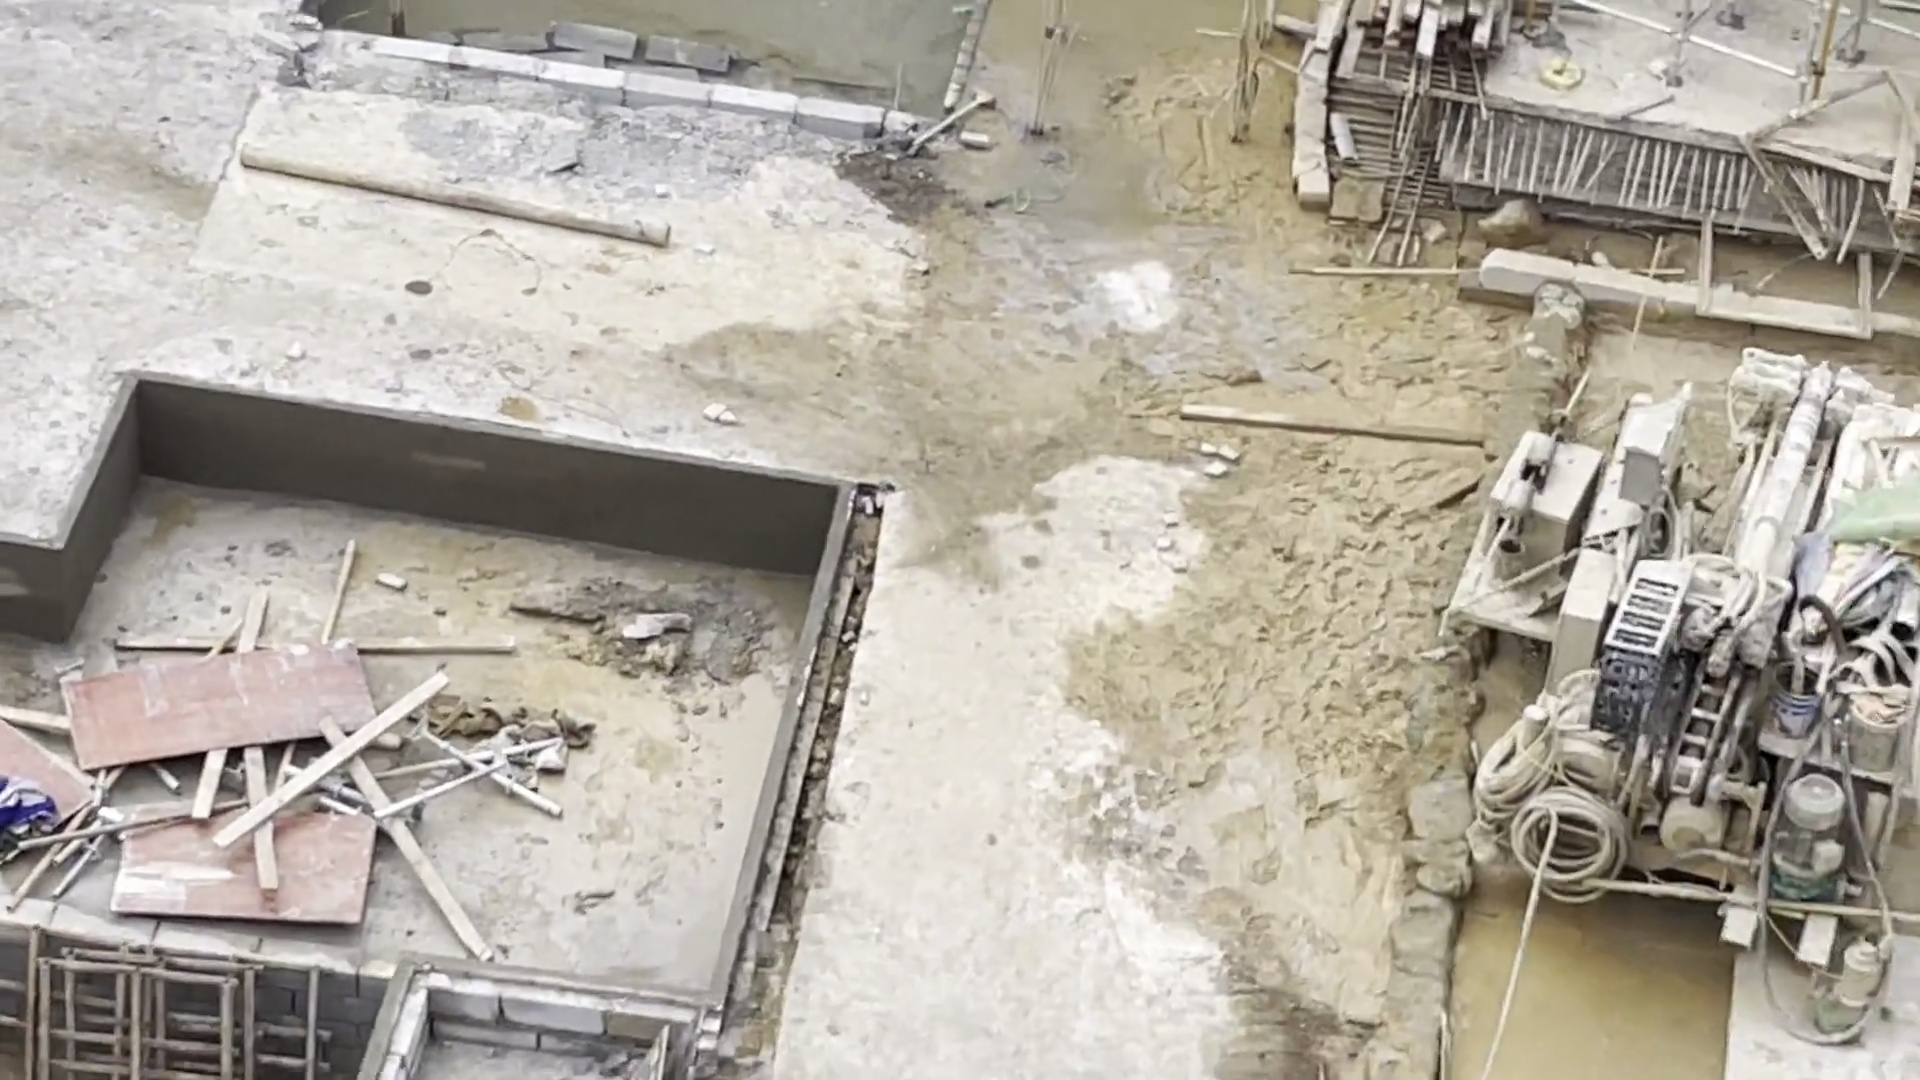wood: (1298, 1, 1514, 74)
